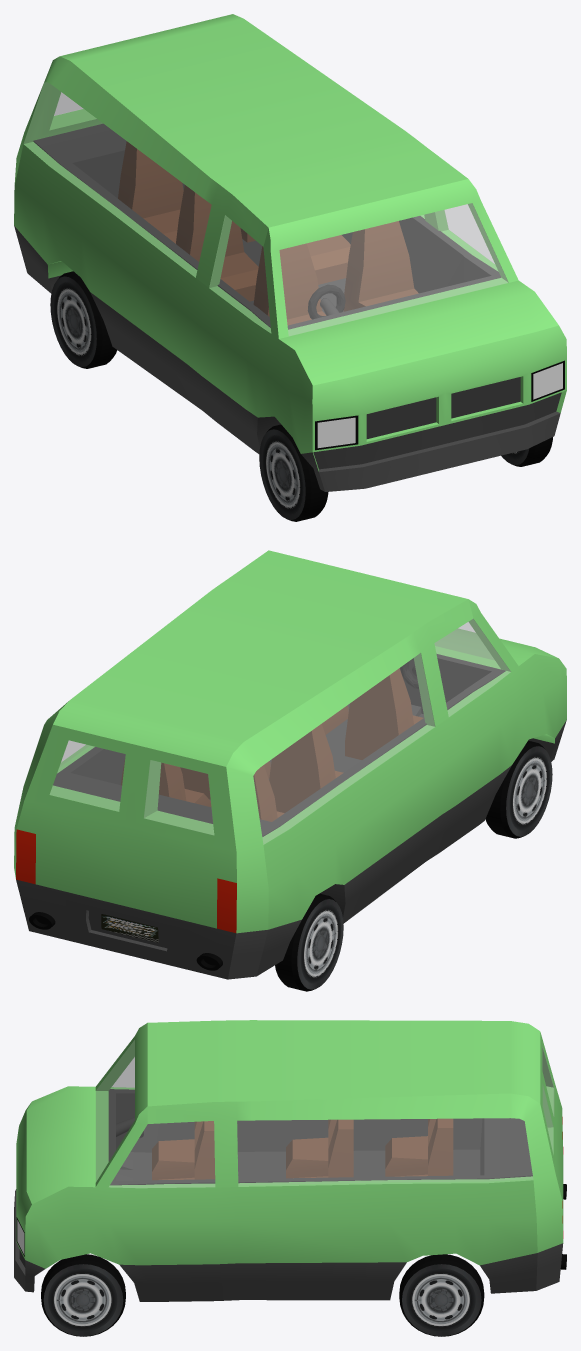
Rendered from MINIVAN.fbx.
3 views of the same model, one above another, from view 1: azimuth 30°, elevation 25°; view 2: azimuth 150°, elevation 25°; view 3: azimuth 270°, elevation 25° (orthographic). The views are drawn at different scales.
Parts seen in each view (by area): view 1: minivan, front_right.012, back_right.012, front_left.012, steeringwheel.006; view 2: minivan, back_right.012, front_right.012, number_plate.006, exhaust.004; view 3: minivan, back_left.012, front_left.012.
Boxes of the visible parts, x1=… form: minivan: x1=14, y1=14, x2=566, y2=491; front_right.012: x1=259, y1=424, x2=328, y2=521; back_right.012: x1=50, y1=271, x2=117, y2=368; front_left.012: x1=501, y1=437, x2=552, y2=466; steeringwheel.006: x1=308, y1=284, x2=345, y2=319; minivan: x1=14, y1=550, x2=566, y2=979; back_right.012: x1=275, y1=893, x2=343, y2=991; front_right.012: x1=485, y1=740, x2=552, y2=838; number_plate.006: x1=101, y1=914, x2=158, y2=942; exhaust.004: x1=29, y1=912, x2=222, y2=970; minivan: x1=14, y1=1020, x2=563, y2=1301; back_left.012: x1=399, y1=1254, x2=484, y2=1336; front_left.012: x1=41, y1=1254, x2=125, y2=1336.
Size of the model in its own units: 295 by 134 by 135.
